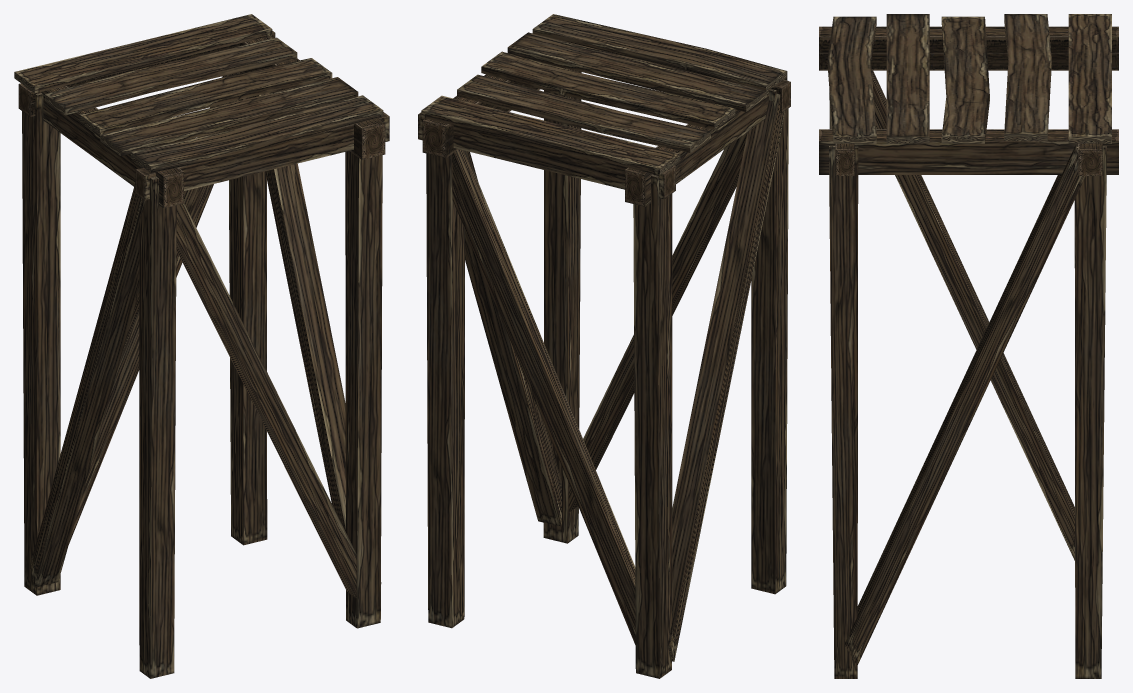
Rendered from Wood_4X8X4_02.fbx.
The picture shows the model from 3 angles, left to right: view 1: azimuth 30°, elevation 25°; view 2: azimuth 150°, elevation 25°; view 3: azimuth 270°, elevation 25°; orthographic projection. The views are drawn at different scales.
Visible parts, largest first — view 1: Wood_4X8X4_02; view 2: Wood_4X8X4_02; view 3: Wood_4X8X4_02.
Boxes of the visible parts, <box> form: Wood_4X8X4_02: <box>14,14,389,678</box>; Wood_4X8X4_02: <box>418,14,790,678</box>; Wood_4X8X4_02: <box>819,14,1118,678</box>.
Size of the model in its own units: 4 by 8 by 4.
